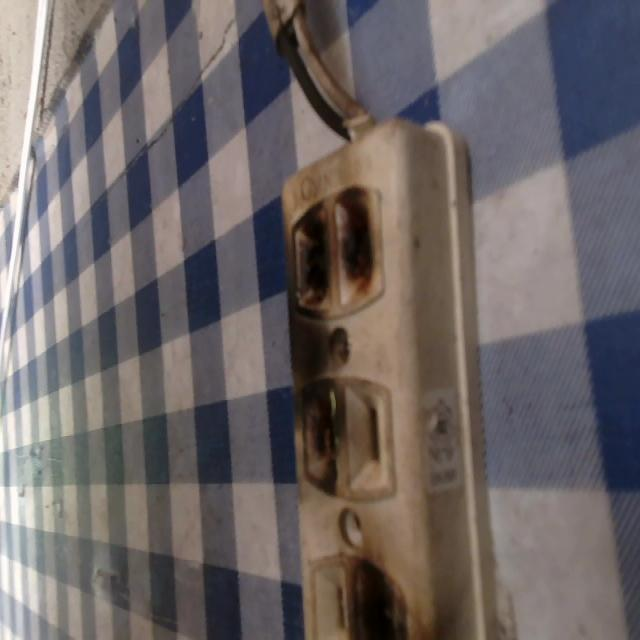-: (286, 176, 400, 327), (285, 374, 356, 506), (347, 544, 414, 639)
